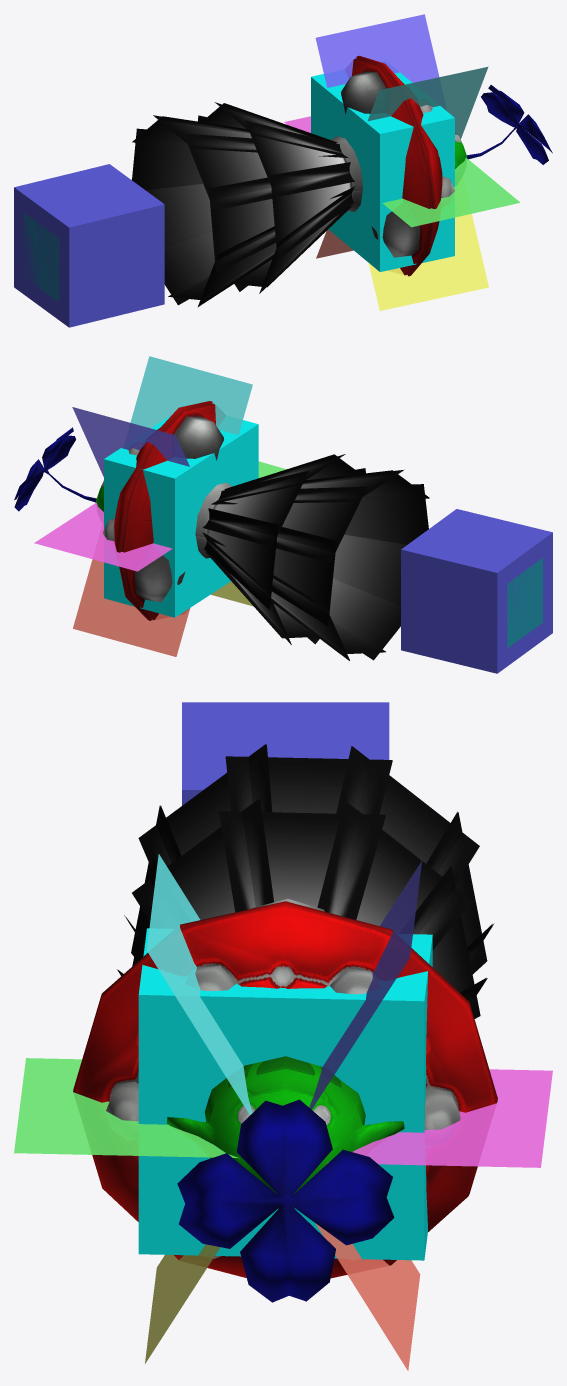
The picture shows the model from 3 angles, top to bottom: view 1: azimuth 30°, elevation 25°; view 2: azimuth 150°, elevation 25°; view 3: azimuth 270°, elevation 25°; orthographic projection. The views are drawn at different scales.
Visible parts, largest first — view 1: object0258_Box, object0243_Plane172, object0246_Box, object0226_Plane171, object0005_C1274, "object0143_Editable Poly", "object0171_Editable Poly", "object0199_Editable Poly", "object0126_Editable Poly", object0261_Box, "object0185_Editable Poly"; view 2: object0258_Box, object0240_Plane173, object0246_Box, object0005_C1274, object0211_Plane174, object0243_Plane172, "object0199_Editable Poly", "object0185_Editable Poly", "object0157_Editable Poly", "object0143_Editable Poly", object0261_Box, object0226_Plane171 (+1 smaller); view 3: object0005_C1274, object0246_Box, object0226_Plane171, object0258_Box, object0243_Plane172, object0211_Plane174, "object0126_Editable Poly", "object0157_Editable Poly", object0240_Plane173, "object0199_Editable Poly", "object0185_Editable Poly", "object0143_Editable Poly" (+5 smaller).
Boxes of the visible parts, box(x1,y1,x2,y2) form: object0258_Box: box(14, 164, 164, 327); object0243_Plane172: box(131, 115, 354, 306); object0246_Box: box(311, 72, 454, 271); object0226_Plane171: box(198, 102, 355, 293); object0005_C1274: box(331, 55, 552, 276); "object0143_Editable Poly": box(315, 14, 439, 87); "object0171_Editable Poly": box(368, 213, 488, 310); "object0199_Editable Poly": box(367, 66, 488, 139); "object0126_Editable Poly": box(382, 157, 520, 227); object0261_Box: box(23, 213, 59, 302); "object0185_Editable Poly": box(316, 229, 353, 258); object0258_Box: box(401, 509, 552, 673); object0240_Plane173: box(202, 470, 429, 660); object0246_Box: box(104, 416, 258, 617); object0005_C1274: box(14, 401, 231, 620); object0211_Plane174: box(203, 455, 365, 644); object0243_Plane172: box(203, 469, 429, 660); "object0199_Editable Poly": box(130, 356, 252, 435); "object0185_Editable Poly": box(73, 559, 190, 656); "object0157_Editable Poly": box(34, 502, 172, 571); "object0143_Editable Poly": box(72, 407, 189, 476); object0261_Box: box(507, 558, 542, 648); object0226_Plane171: box(204, 454, 365, 644); object0005_C1274: box(73, 898, 497, 1302); object0246_Box: box(138, 928, 432, 1260); object0226_Plane171: box(117, 799, 486, 993); object0258_Box: box(182, 702, 389, 805); object0243_Plane172: box(124, 744, 492, 956); object0211_Plane174: box(118, 799, 487, 1018); "object0126_Editable Poly": box(14, 1058, 239, 1158); "object0157_Editable Poly": box(327, 1069, 552, 1167); object0240_Plane173: box(125, 744, 494, 974); "object0199_Editable Poly": box(146, 854, 252, 1114); "object0185_Editable Poly": box(315, 1223, 420, 1370); "object0143_Editable Poly": box(309, 861, 421, 1109).
Size of the model in its own units: 1.09 by 0.4643 by 0.5463.
